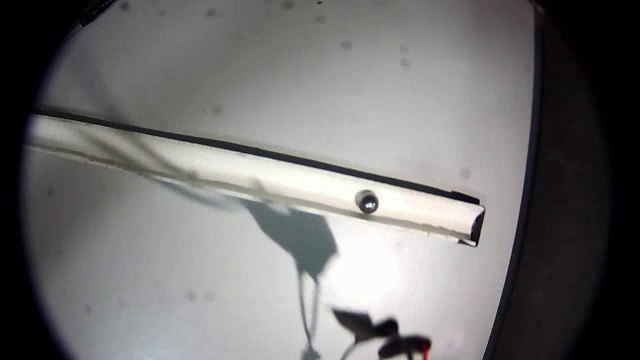gangzhu: (354, 188, 382, 216)
